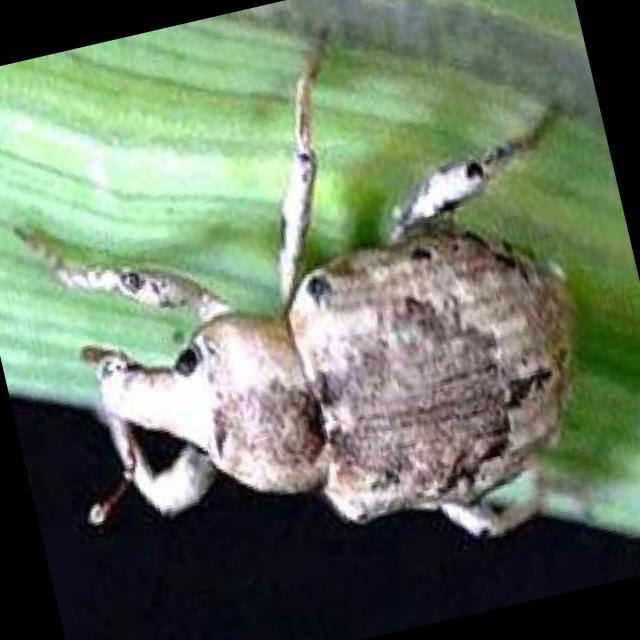rice-bug: (18, 0, 614, 619)
